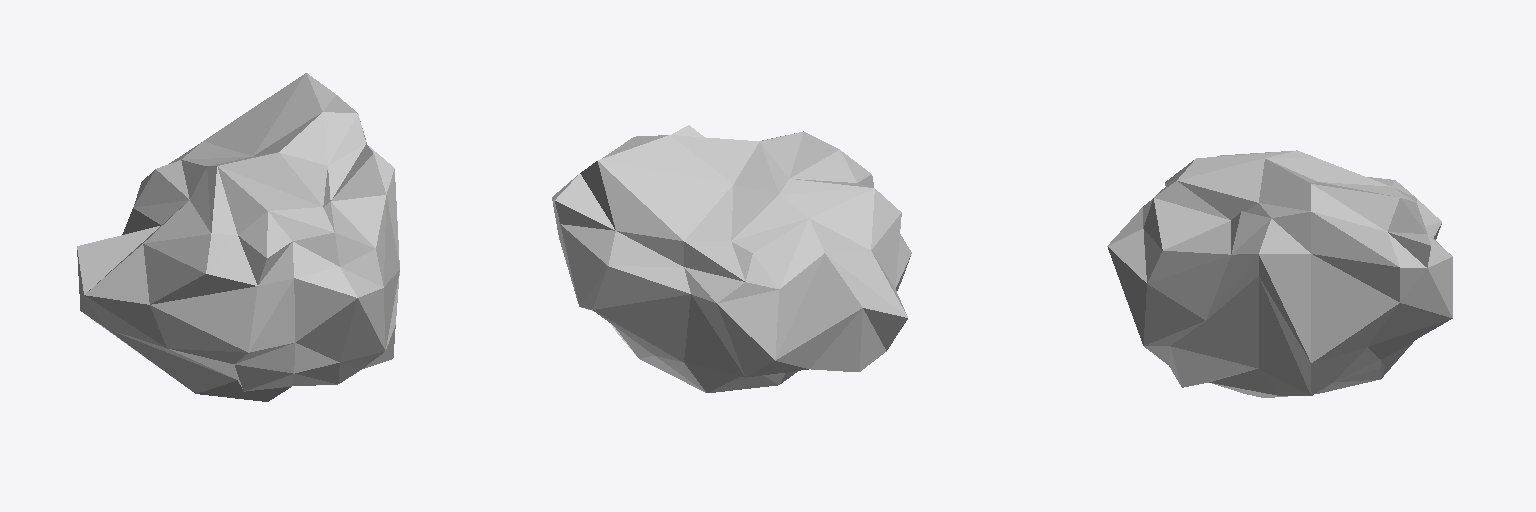
File: Ore 3.obj
The picture shows the model from 3 angles: view 1: azimuth 30°, elevation 25°; view 2: azimuth 150°, elevation 25°; view 3: azimuth 270°, elevation 25°; orthographic projection.
Visible parts, largest first — view 1: Ore_1; view 2: Ore_1; view 3: Ore_1.
Boxes of the visible parts, x1,y1,x2,y2 form: Ore_1: [77, 73, 399, 401]; Ore_1: [552, 125, 911, 392]; Ore_1: [1107, 150, 1452, 397].
Bounding box in the file's own units: 2.3 × 1.58 × 2.2.